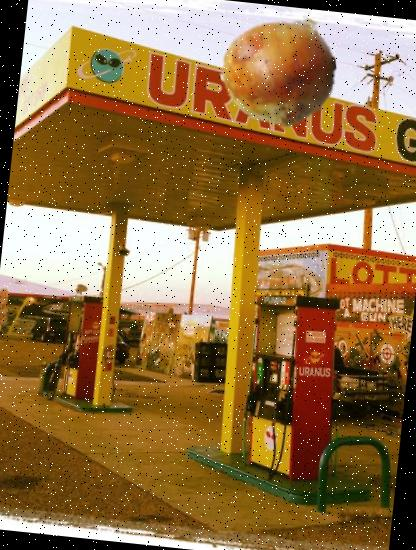Onion: (214, 11, 343, 141)
